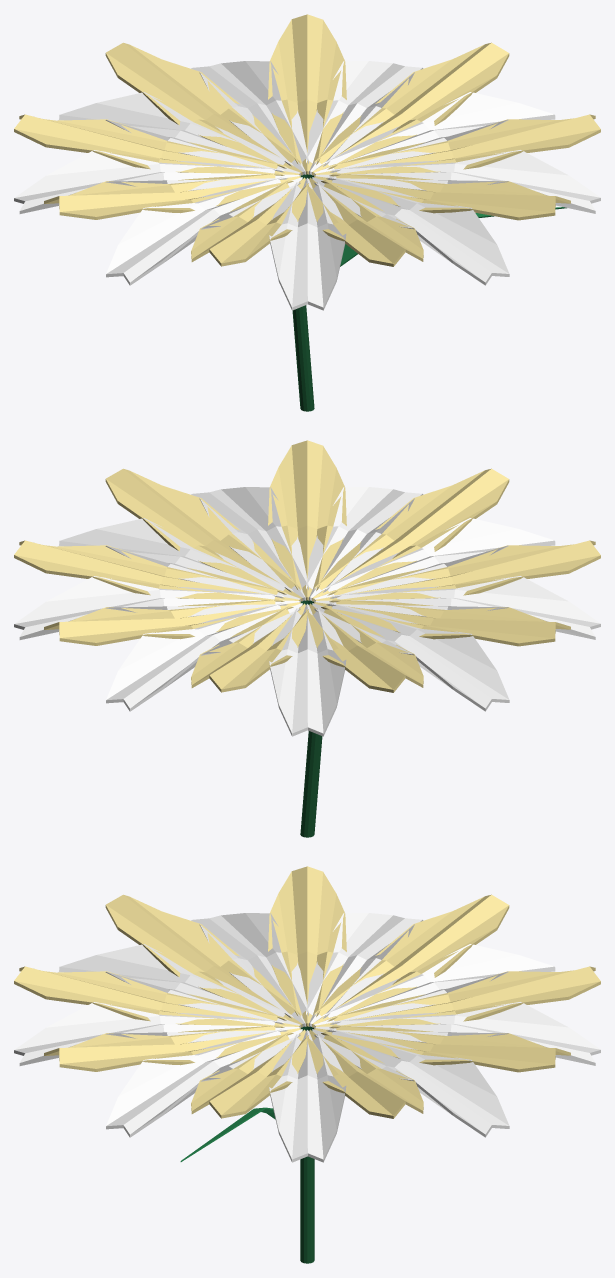
Rendered from Flower_8.fbx.
3 renders of one model, top to bottom at view 1: azimuth 30°, elevation 25°; view 2: azimuth 150°, elevation 25°; view 3: azimuth 270°, elevation 25°, orthographic.
Visible parts, largest first — view 1: Flower_8; view 2: Flower_8; view 3: Flower_8.
Boxes of the visible parts, x1,y1,x2,y2 form: Flower_8: [14, 14, 600, 411]; Flower_8: [14, 440, 600, 837]; Flower_8: [14, 866, 600, 1263].
Size of the model in its own units: 613 by 313 by 609.
